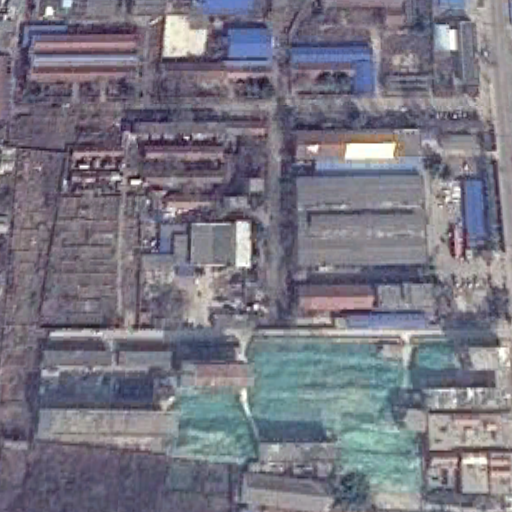cw: (175, 332, 465, 512)
